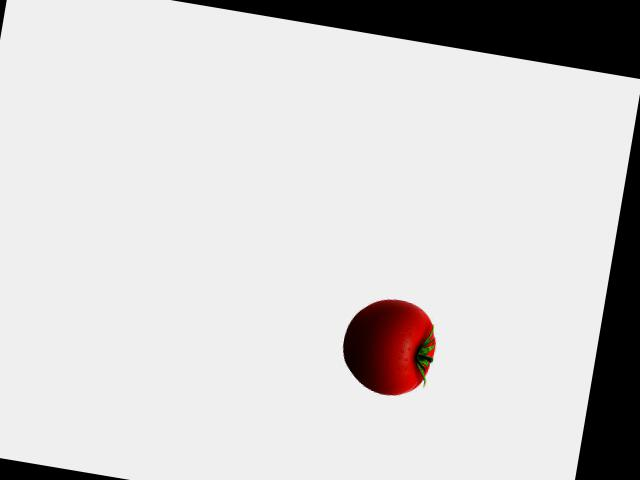tomato: (336, 303, 440, 401)
